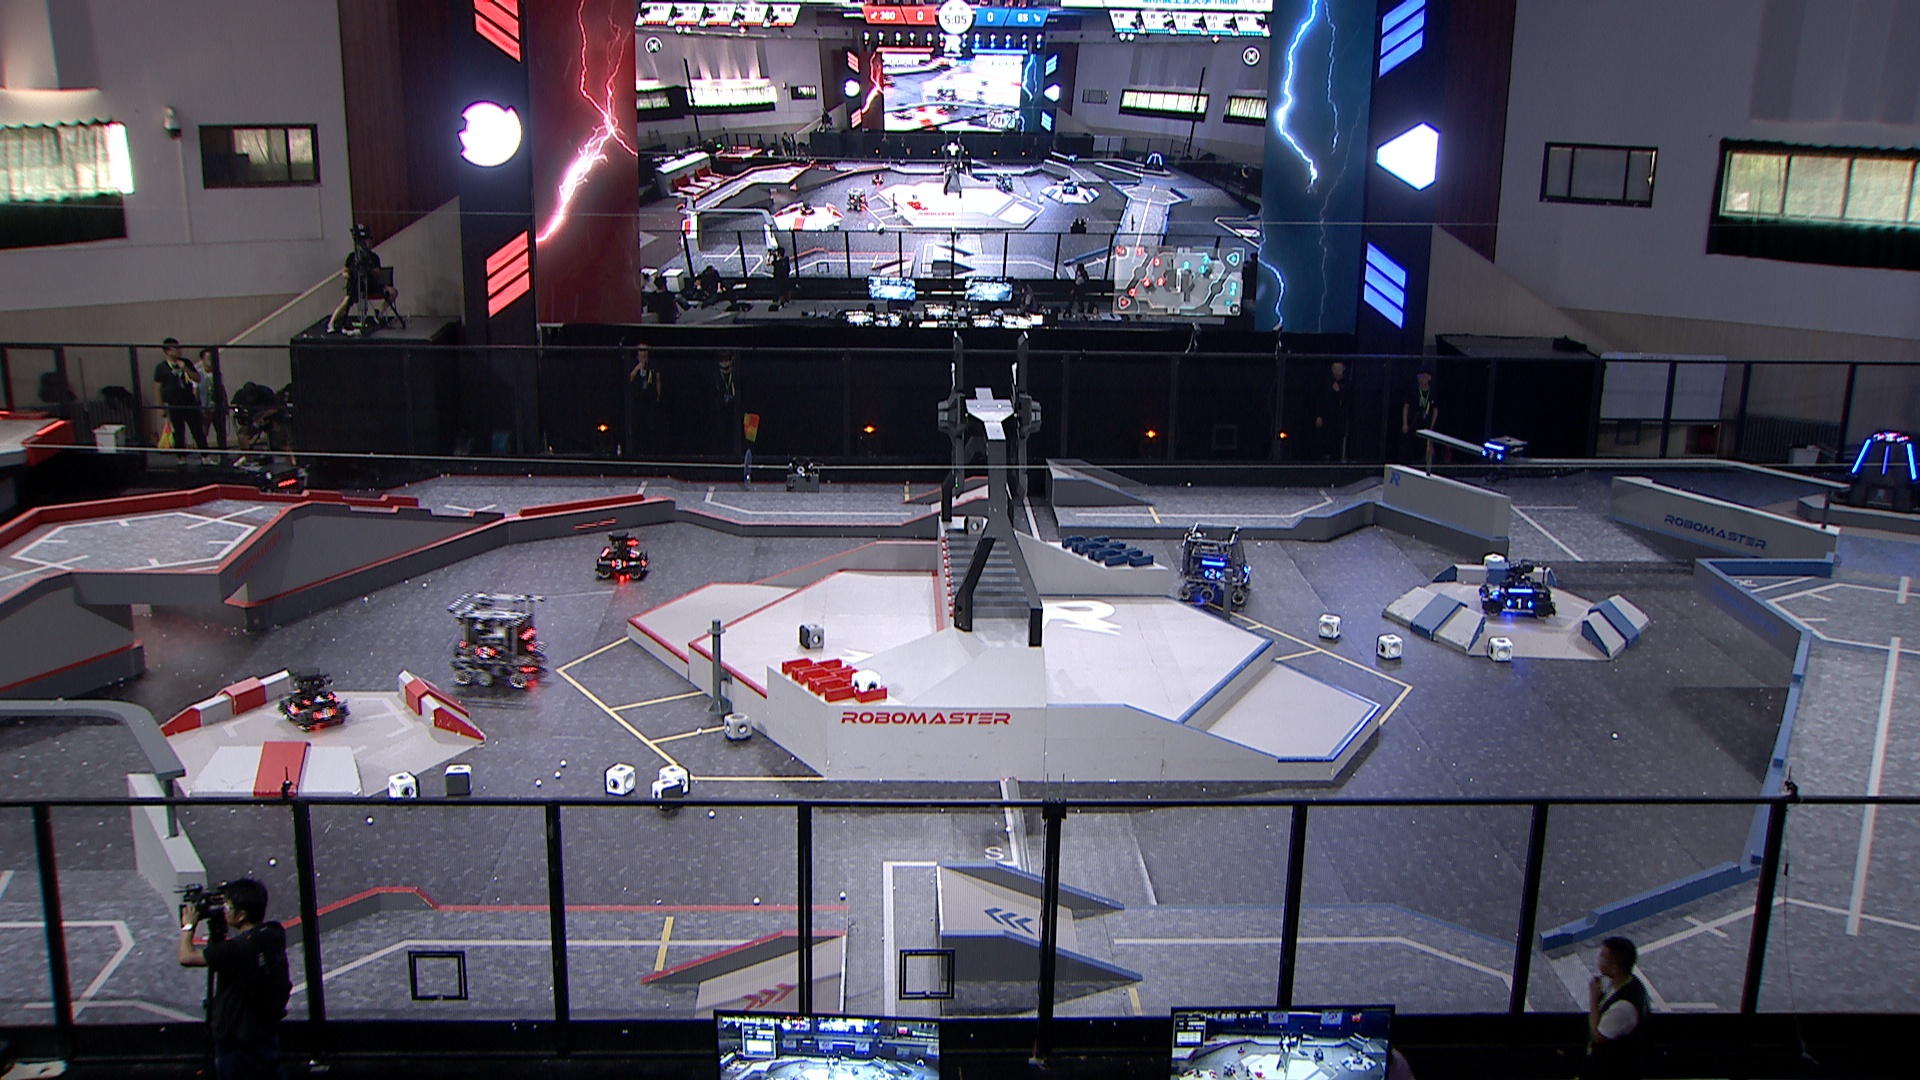armor: (1847, 436, 1873, 476), (1905, 440, 1917, 480), (301, 694, 335, 705), (313, 707, 338, 723), (1505, 597, 1534, 611), (1879, 444, 1890, 477), (1480, 448, 1505, 462), (473, 646, 496, 661), (1200, 567, 1221, 582), (284, 700, 299, 713), (611, 559, 628, 571), (526, 638, 541, 651), (628, 549, 642, 560)
base: (1826, 431, 1920, 516)
car: (444, 589, 550, 688), (1176, 524, 1251, 605), (1477, 559, 1555, 622), (276, 669, 352, 731), (244, 455, 311, 514), (591, 527, 647, 584)
ignore: (931, 87, 960, 111), (844, 187, 869, 214), (993, 169, 1015, 193), (1141, 152, 1166, 173), (891, 100, 913, 121), (1059, 178, 1079, 196), (1874, 433, 1903, 444), (796, 200, 818, 216), (869, 171, 885, 186)
watcher: (1477, 434, 1524, 484)
